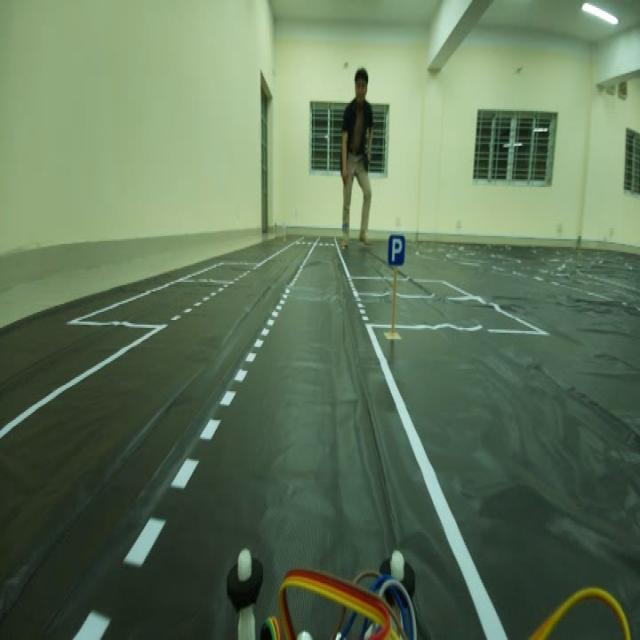parking: (384, 229, 404, 276)
